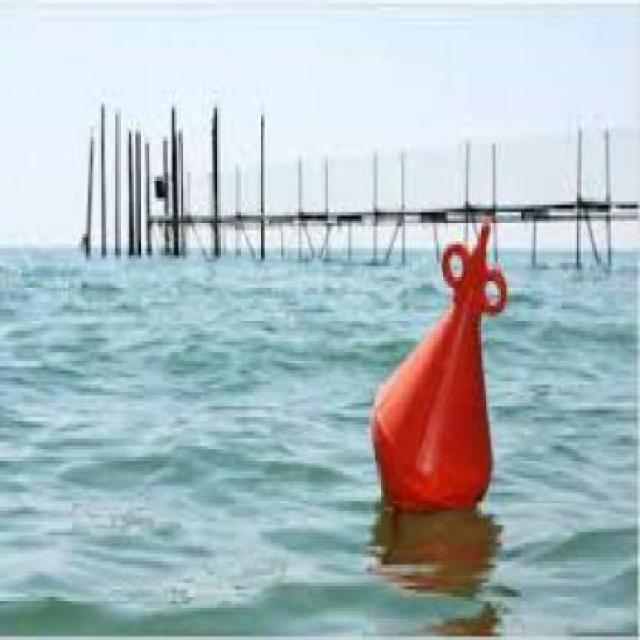buoy: (363, 206, 506, 530)
